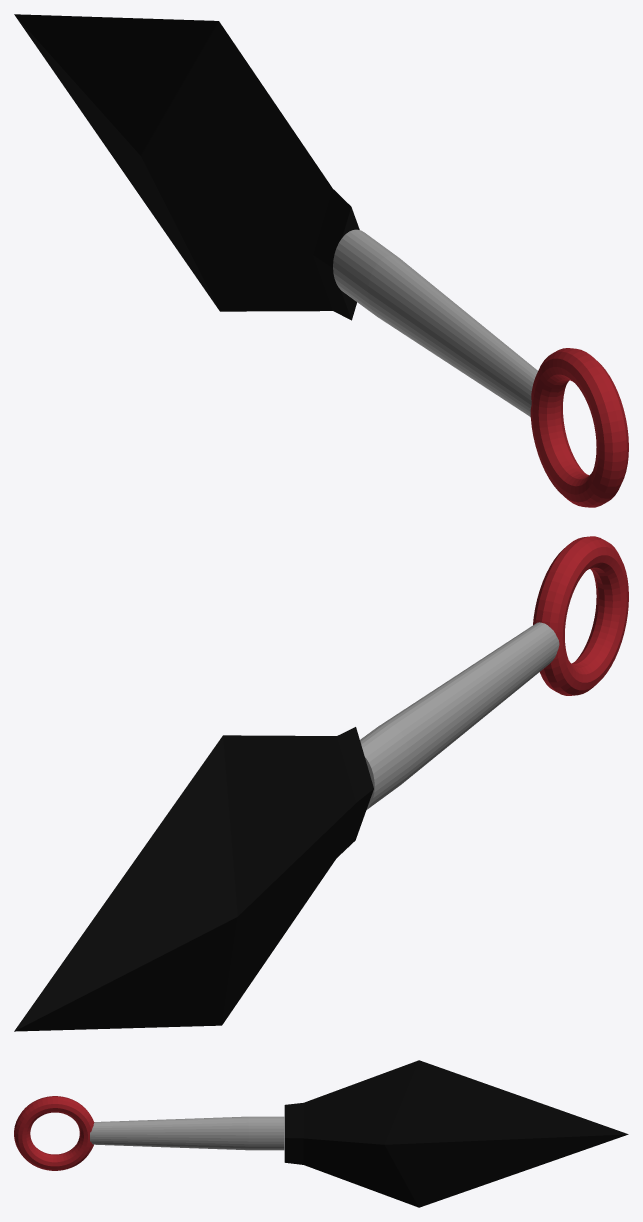
The model's file is kunaiequip.fbx.
3 views of the same model, one above another, from view 1: azimuth 30°, elevation 25°; view 2: azimuth 150°, elevation 25°; view 3: azimuth 270°, elevation 25° (orthographic). The views are drawn at different scales.
Parts seen in each view (by area): view 1: Cube; view 2: Cube; view 3: Cube.
Boxes of the visible parts, x1,y1,x2,y2 form: Cube: (14,14,628,507); Cube: (14,536,628,1031); Cube: (14,1060,628,1207).
Bounding box in the file's own units: 25.81 × 76.29 × 289.
